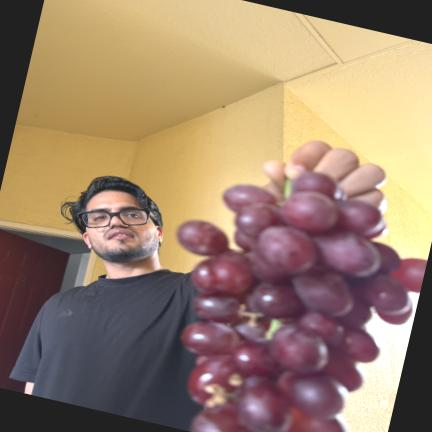grape_cluster: (178, 173, 427, 432)
